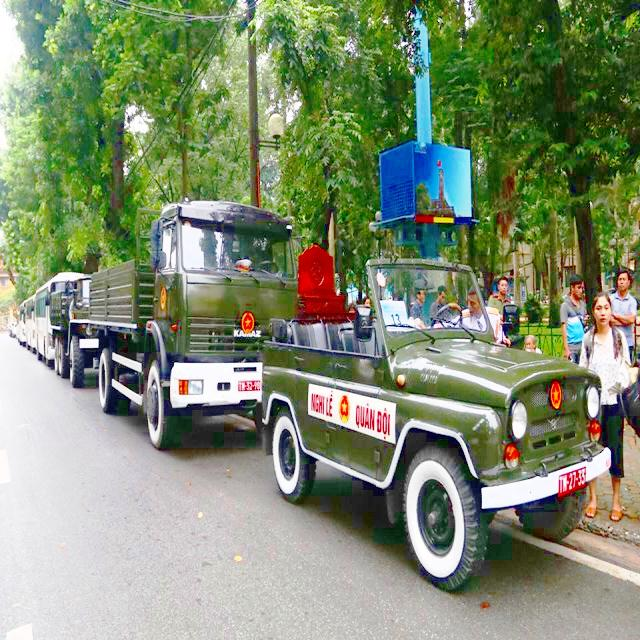license_plate: (560, 467, 588, 498), (238, 380, 262, 393)
